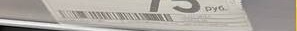1d: (53, 8, 173, 22)
